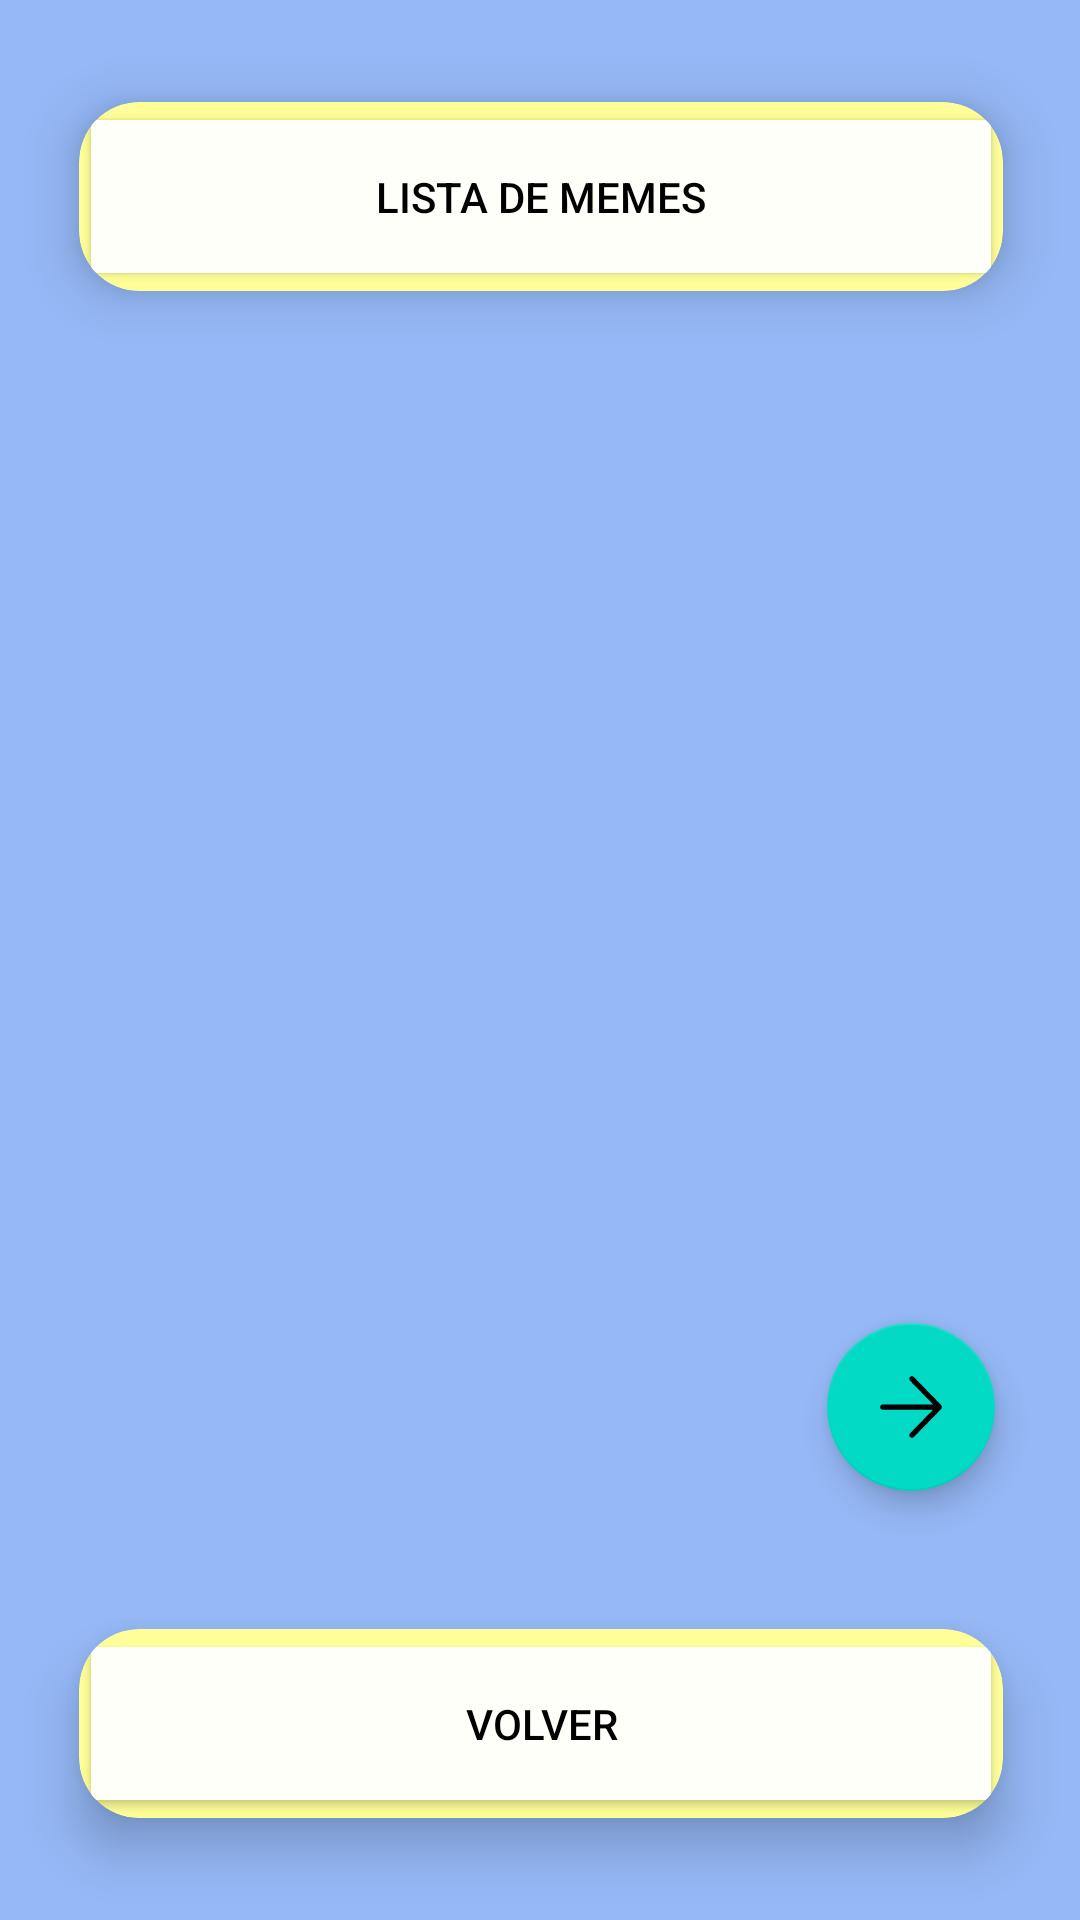

Icon bounding boxes for this 1080px x 1920px phone screenshot, format (x1=x1, y1=y1, x2=x2, y2=y2):
arrow next: (x1=827, y1=1323, x2=995, y2=1491)
